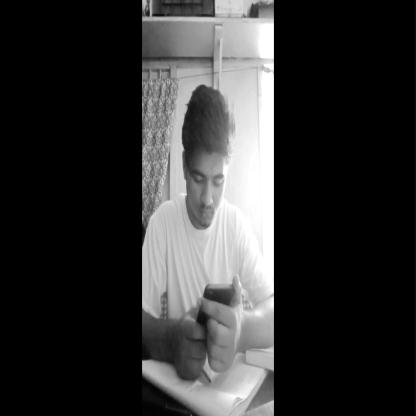Normal: (180, 81, 233, 230)
